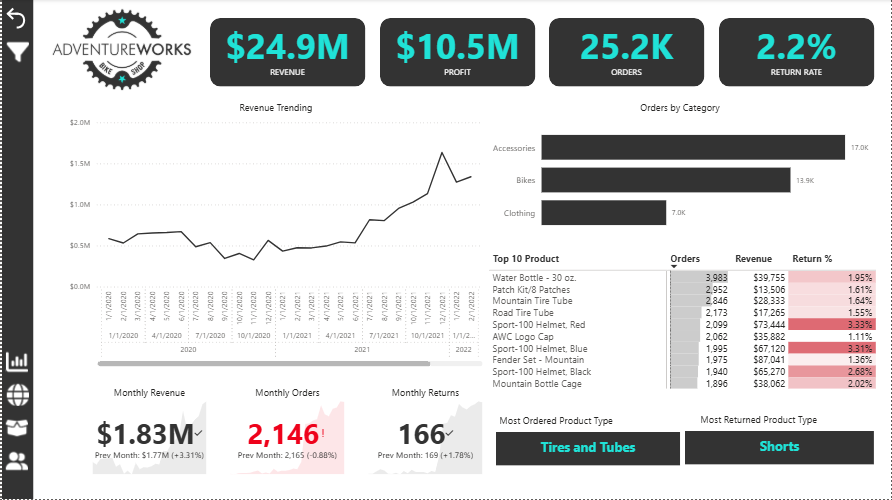

What the dashboard file says about the page in this screenshot:
{"tool":"powerbi","page":{"name":"Exec Dashboard","canvas":[1280,720],"ordinal":0},"visuals":[{"type":"image","title":"AW Logo","box":[46.2,0,253.8,146.2],"z":0},{"type":"card","fields":{"Values":["Measure Table.Total Revenue"]},"box":[285.1,5.8,252,133.9],"z":0,"group":"g2"},{"type":"group","id":"g1","title":"KPI BG","box":[300,27.5,956.2,98.8],"z":0,"group":"g3"},{"type":"shape","box":[300,27.5,223.8,98.8],"z":0,"group":"g1"},{"type":"actionButton","box":[2,502.6,44.6,40.3],"z":0,"group":"g4"},{"type":"shape","title":"Left Nav BG","box":[0,0,45,720],"z":1000},{"type":"group","id":"g2","title":"KPI Values","box":[285.1,5.8,985,133.9],"z":1000,"group":"g3"},{"type":"card","fields":{"Values":["Measure Table.Total Profit"]},"box":[529.4,5.8,252,133.9],"z":1000,"group":"g2"},{"type":"shape","box":[544.2,27.5,223.8,98.8],"z":1000,"group":"g1"},{"type":"actionButton","box":[2,597.6,44.6,40.3],"z":1000,"group":"g4"},{"type":"group","id":"g3","title":"KPI's","box":[285.1,5.8,985,133.9],"z":2000},{"type":"card","fields":{"Values":["Measure Table.Return Rate"]},"box":[1018.1,5.8,252,133.9],"z":2000,"group":"g2"},{"type":"shape","box":[788.3,27.5,223.8,98.8],"z":2000,"group":"g1"},{"type":"actionButton","box":[2,645.2,44.6,40.3],"z":2000,"group":"g4"},{"type":"card","fields":{"Values":["Measure Table.Total Orders"]},"box":[773.7,5.8,252,133.9],"z":3000,"group":"g2"},{"type":"shape","box":[1032.5,27.5,223.8,98.8],"z":3000,"group":"g1"},{"type":"lineChart","title":"Revenue Trending","fields":{"Y":["Measure Table.Total Revenue"],"Category":["Calendar Lookup.Year","Calendar Lookup.Start of Quarter","Calendar Lookup.Start of Month"]},"box":[92.2,146.9,604.8,387.4],"z":3000},{"type":"actionButton","box":[3.4,550.1,41.8,40.3],"z":3000,"group":"g4"},{"type":"kpi","title":"Monthly Revenue","fields":{"Indicator":["Measure Table.Total Revenue"],"TrendLine":["Calendar Lookup.Start of Month"],"Goal":["Measure Table.Previous Month Revenue"]},"box":[125.3,557.3,174.2,132.5],"z":4000},{"type":"kpi","title":"Monthly Orders","fields":{"TrendLine":["Calendar Lookup.Start of Month"],"Indicator":["Measure Table.Total Orders"],"Goal":["Measure Table.Previous Month Orders"]},"box":[324,557.3,174.2,132.5],"z":5000},{"type":"kpi","title":"Monthly Returns","fields":{"TrendLine":["Calendar Lookup.Start of Month"],"Indicator":["Measure Table.Total Returns"],"Goal":["Measure Table.Previous Month Returns"]},"box":[522.7,557.3,174.2,132.5],"z":6000},{"type":"clusteredBarChart","title":"Orders by Category","fields":{"Category":["Product Categories Lookup.CategoryName"],"Y":["Measure Table.Total Orders"]},"box":[697,146.9,558.7,204.5],"z":7000},{"type":"pivotTable","fields":{"Rows":["Product Lookup.ProductName"],"Values":["Measure Table.Total Orders","Measure Table.Total Revenue","Measure Table.Return Rate"]},"box":[697,360,573.1,213.1],"z":8000},{"type":"card","fields":{"Values":["Min(Product Subcategories Lookup.SubcategoryName)"]},"box":[711.4,623.5,265,47.5],"z":9000},{"type":"textbox","box":[711.4,593.3,188.6,30.2],"z":10000},{"type":"card","fields":{"Values":["Min(Product Subcategories Lookup.SubcategoryName)"]},"box":[983.5,622.1,272.2,47.5],"z":11000},{"type":"textbox","box":[1000.8,591.8,188.6,30.2],"z":12000},{"type":"actionButton","box":[0,7.2,44.6,40.3],"z":13000},{"type":"group","id":"g4","title":"Navigation Buttons","box":[2,502.6,44.6,182.9],"z":14000},{"type":"actionButton","box":[2.9,56.2,41.8,40.3],"z":15000}]}

Visuals, with their boxes in screenshot pixels (x1, y1, x2, y2), scaled from the page's 1280x720 canvas onto the 892x500 screenshot:
"AW Logo" image: 32:0:209:102
card - Measure Table.Total Revenue: 199:4:374:97
"KPI BG" group: 209:19:875:88
shape: 209:19:365:88
actionButton: 1:349:32:377
"Left Nav BG" shape: 0:0:31:499
"KPI Values" group: 199:4:885:97
card - Measure Table.Total Profit: 369:4:545:97
shape: 379:19:535:88
actionButton: 1:415:32:443
"KPI's" group: 199:4:885:97
card - Measure Table.Return Rate: 709:4:885:97
shape: 549:19:705:88
actionButton: 1:448:32:476
card - Measure Table.Total Orders: 539:4:715:97
shape: 720:19:875:88
"Revenue Trending" lineChart: 64:102:486:371
actionButton: 2:382:31:410
"Monthly Revenue" kpi: 87:387:209:479
"Monthly Orders" kpi: 226:387:347:479
"Monthly Returns" kpi: 364:387:486:479
"Orders by Category" clusteredBarChart: 486:102:875:244
pivotTable - Product Lookup.ProductName x Measure Table.Total Orders: 486:250:885:398
card - Min(Product Subcategories Lookup.SubcategoryName): 496:433:680:466
textbox: 496:412:627:433
card - Min(Product Subcategories Lookup.SubcategoryName): 685:432:875:465
textbox: 697:411:829:432
actionButton: 0:5:31:33
"Navigation Buttons" group: 1:349:32:476
actionButton: 2:39:31:67
